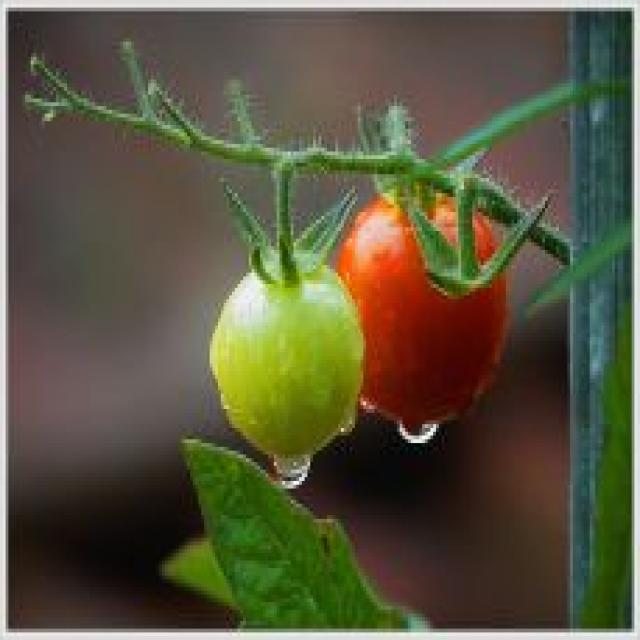level 2: (202, 247, 378, 496)
level 6: (326, 158, 530, 451)
